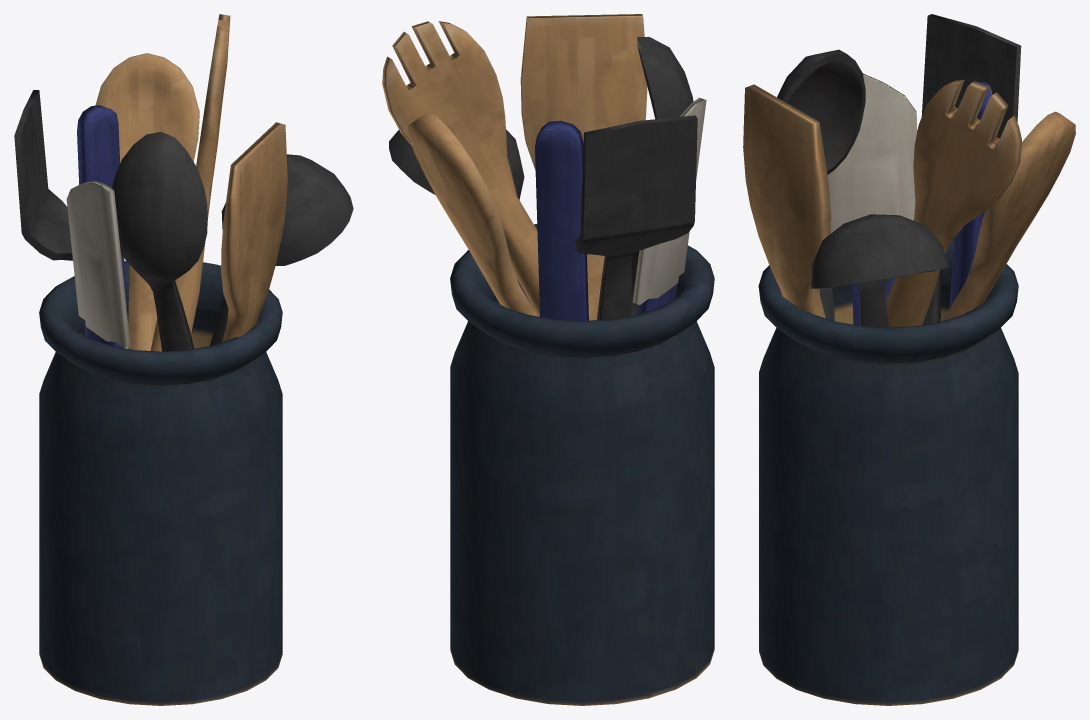
3 renders of one model, left to right at view 1: azimuth 30°, elevation 25°; view 2: azimuth 150°, elevation 25°; view 3: azimuth 270°, elevation 25°, orthographic. The views are drawn at different scales.
Parts seen in each view (by area): view 1: Kitchen_Utensiles_0; view 2: Kitchen_Utensiles_0; view 3: Kitchen_Utensiles_0.
Part boxes in pixels (x1=…): Kitchen_Utensiles_0: x1=14, y1=14, x2=353, y2=705; Kitchen_Utensiles_0: x1=382, y1=14, x2=714, y2=705; Kitchen_Utensiles_0: x1=743, y1=14, x2=1075, y2=705.
Size of the model in its own units: 0.214 by 0.3952 by 0.1919.
Materials: 1 (1 with a texture image).
